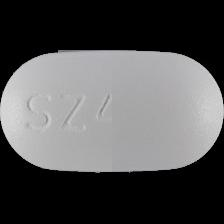0781-5627: (0, 0, 224, 224)
